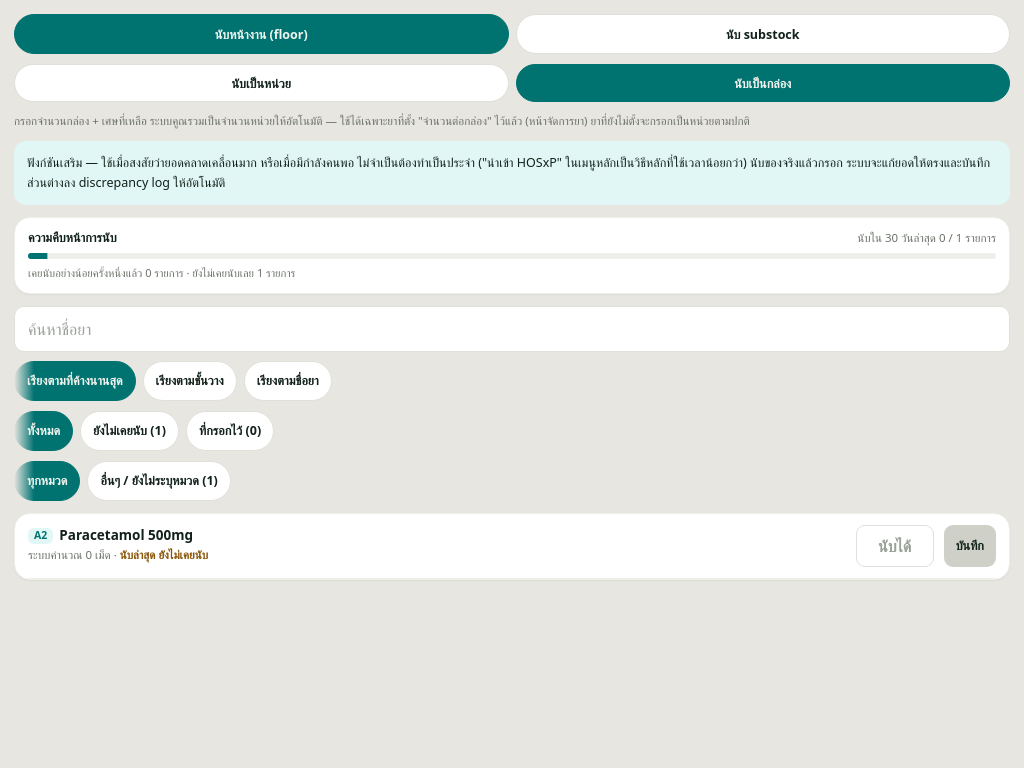
Test: CountScreen — box-counting regression › keeps the plain unit input for a med with no packSize set, even in นับเป็นกล่อง mode
Click the button "นับเป็นกล่อง".
click(763, 83)  # box [516,64,1010,102]
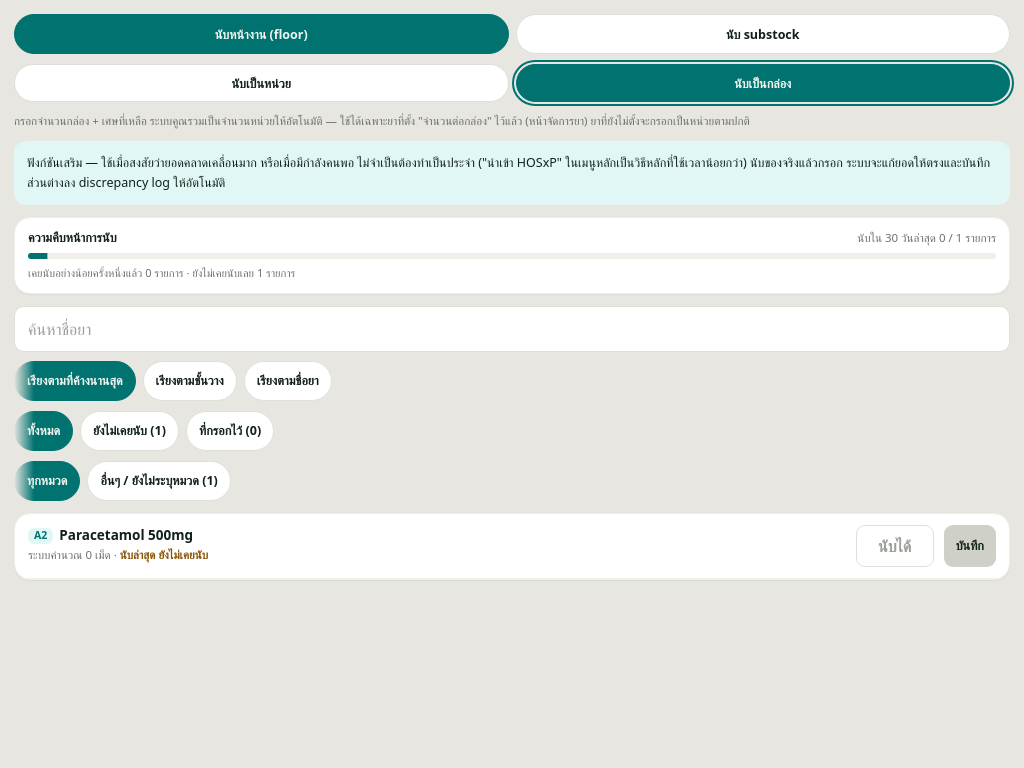
Type "30" into the field with placeholder "นับได้".
click(895, 546); type("30")  # box [856,525,934,567]
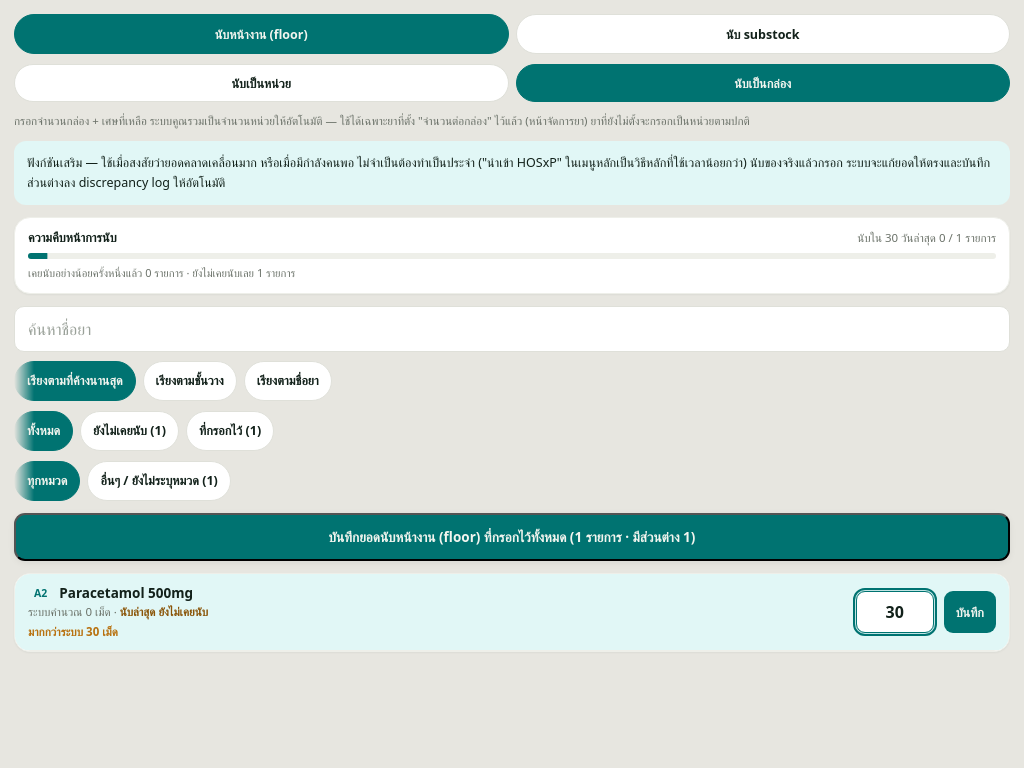
Now the text "มากกว่าระบบ 30 เม็ด" is shown, box [28,624,118,639]
